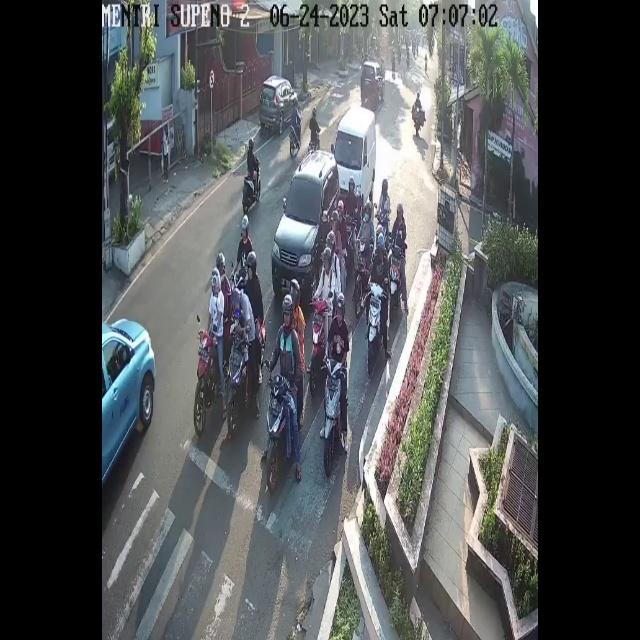bus: (226, 314, 250, 439), (268, 372, 292, 494), (194, 330, 218, 435), (323, 357, 342, 479), (310, 296, 327, 393), (369, 278, 382, 372), (353, 239, 368, 319), (243, 159, 261, 214), (389, 243, 401, 310), (288, 116, 302, 160), (342, 214, 357, 244), (230, 271, 242, 307), (412, 102, 422, 137), (309, 129, 321, 153), (377, 210, 391, 228)
motorcycle: (273, 149, 340, 293), (102, 316, 155, 485), (335, 108, 375, 205), (261, 75, 300, 124), (360, 60, 383, 106)
